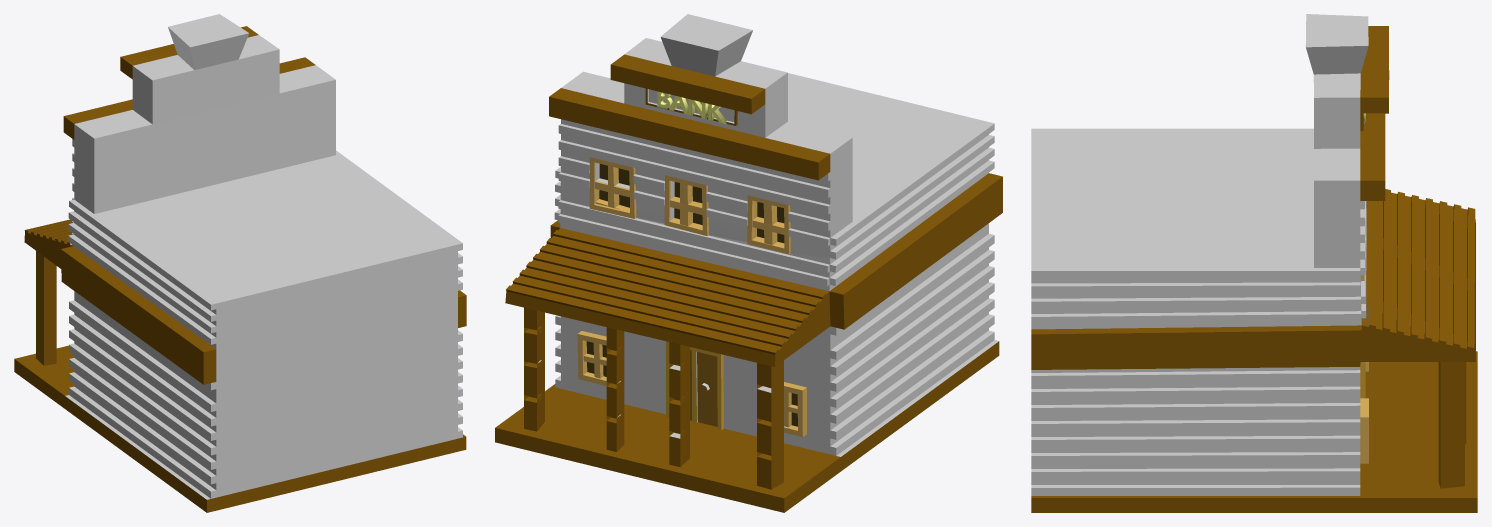
The model's file is Bank.fbx.
3 views of the same model, side by side, from view 1: azimuth 30°, elevation 25°; view 2: azimuth 150°, elevation 25°; view 3: azimuth 270°, elevation 25° (orthographic). The views are drawn at different scales.
Parts seen in each view (by area): view 1: Bank; view 2: Bank; view 3: Bank.
Part boxes in pixels (x1,y1,x2,y2): Bank: (14, 14, 466, 512); Bank: (495, 14, 1002, 512); Bank: (1031, 14, 1477, 512).
Bounding box in the file's own units: 218 × 280 × 276.
